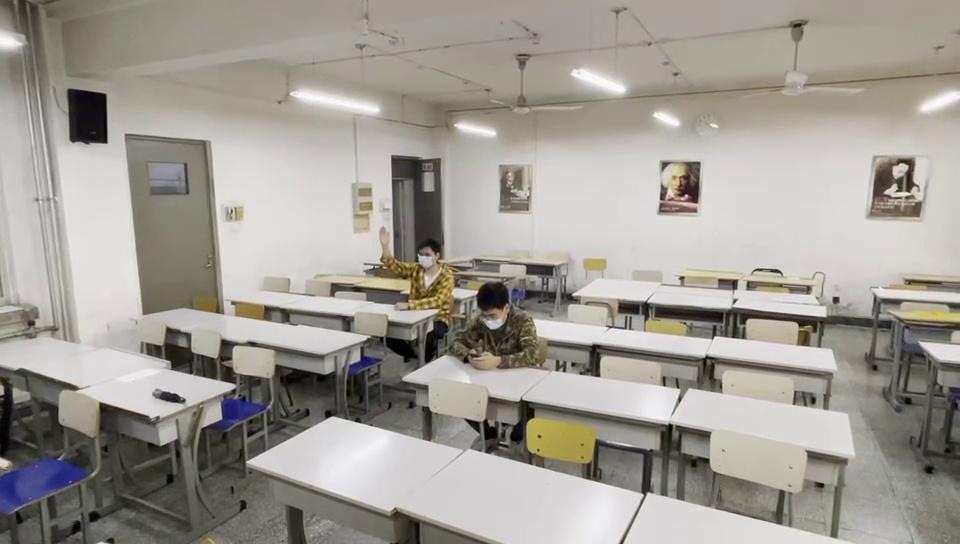phone: (452, 281, 540, 368)
study: (377, 224, 453, 308)
